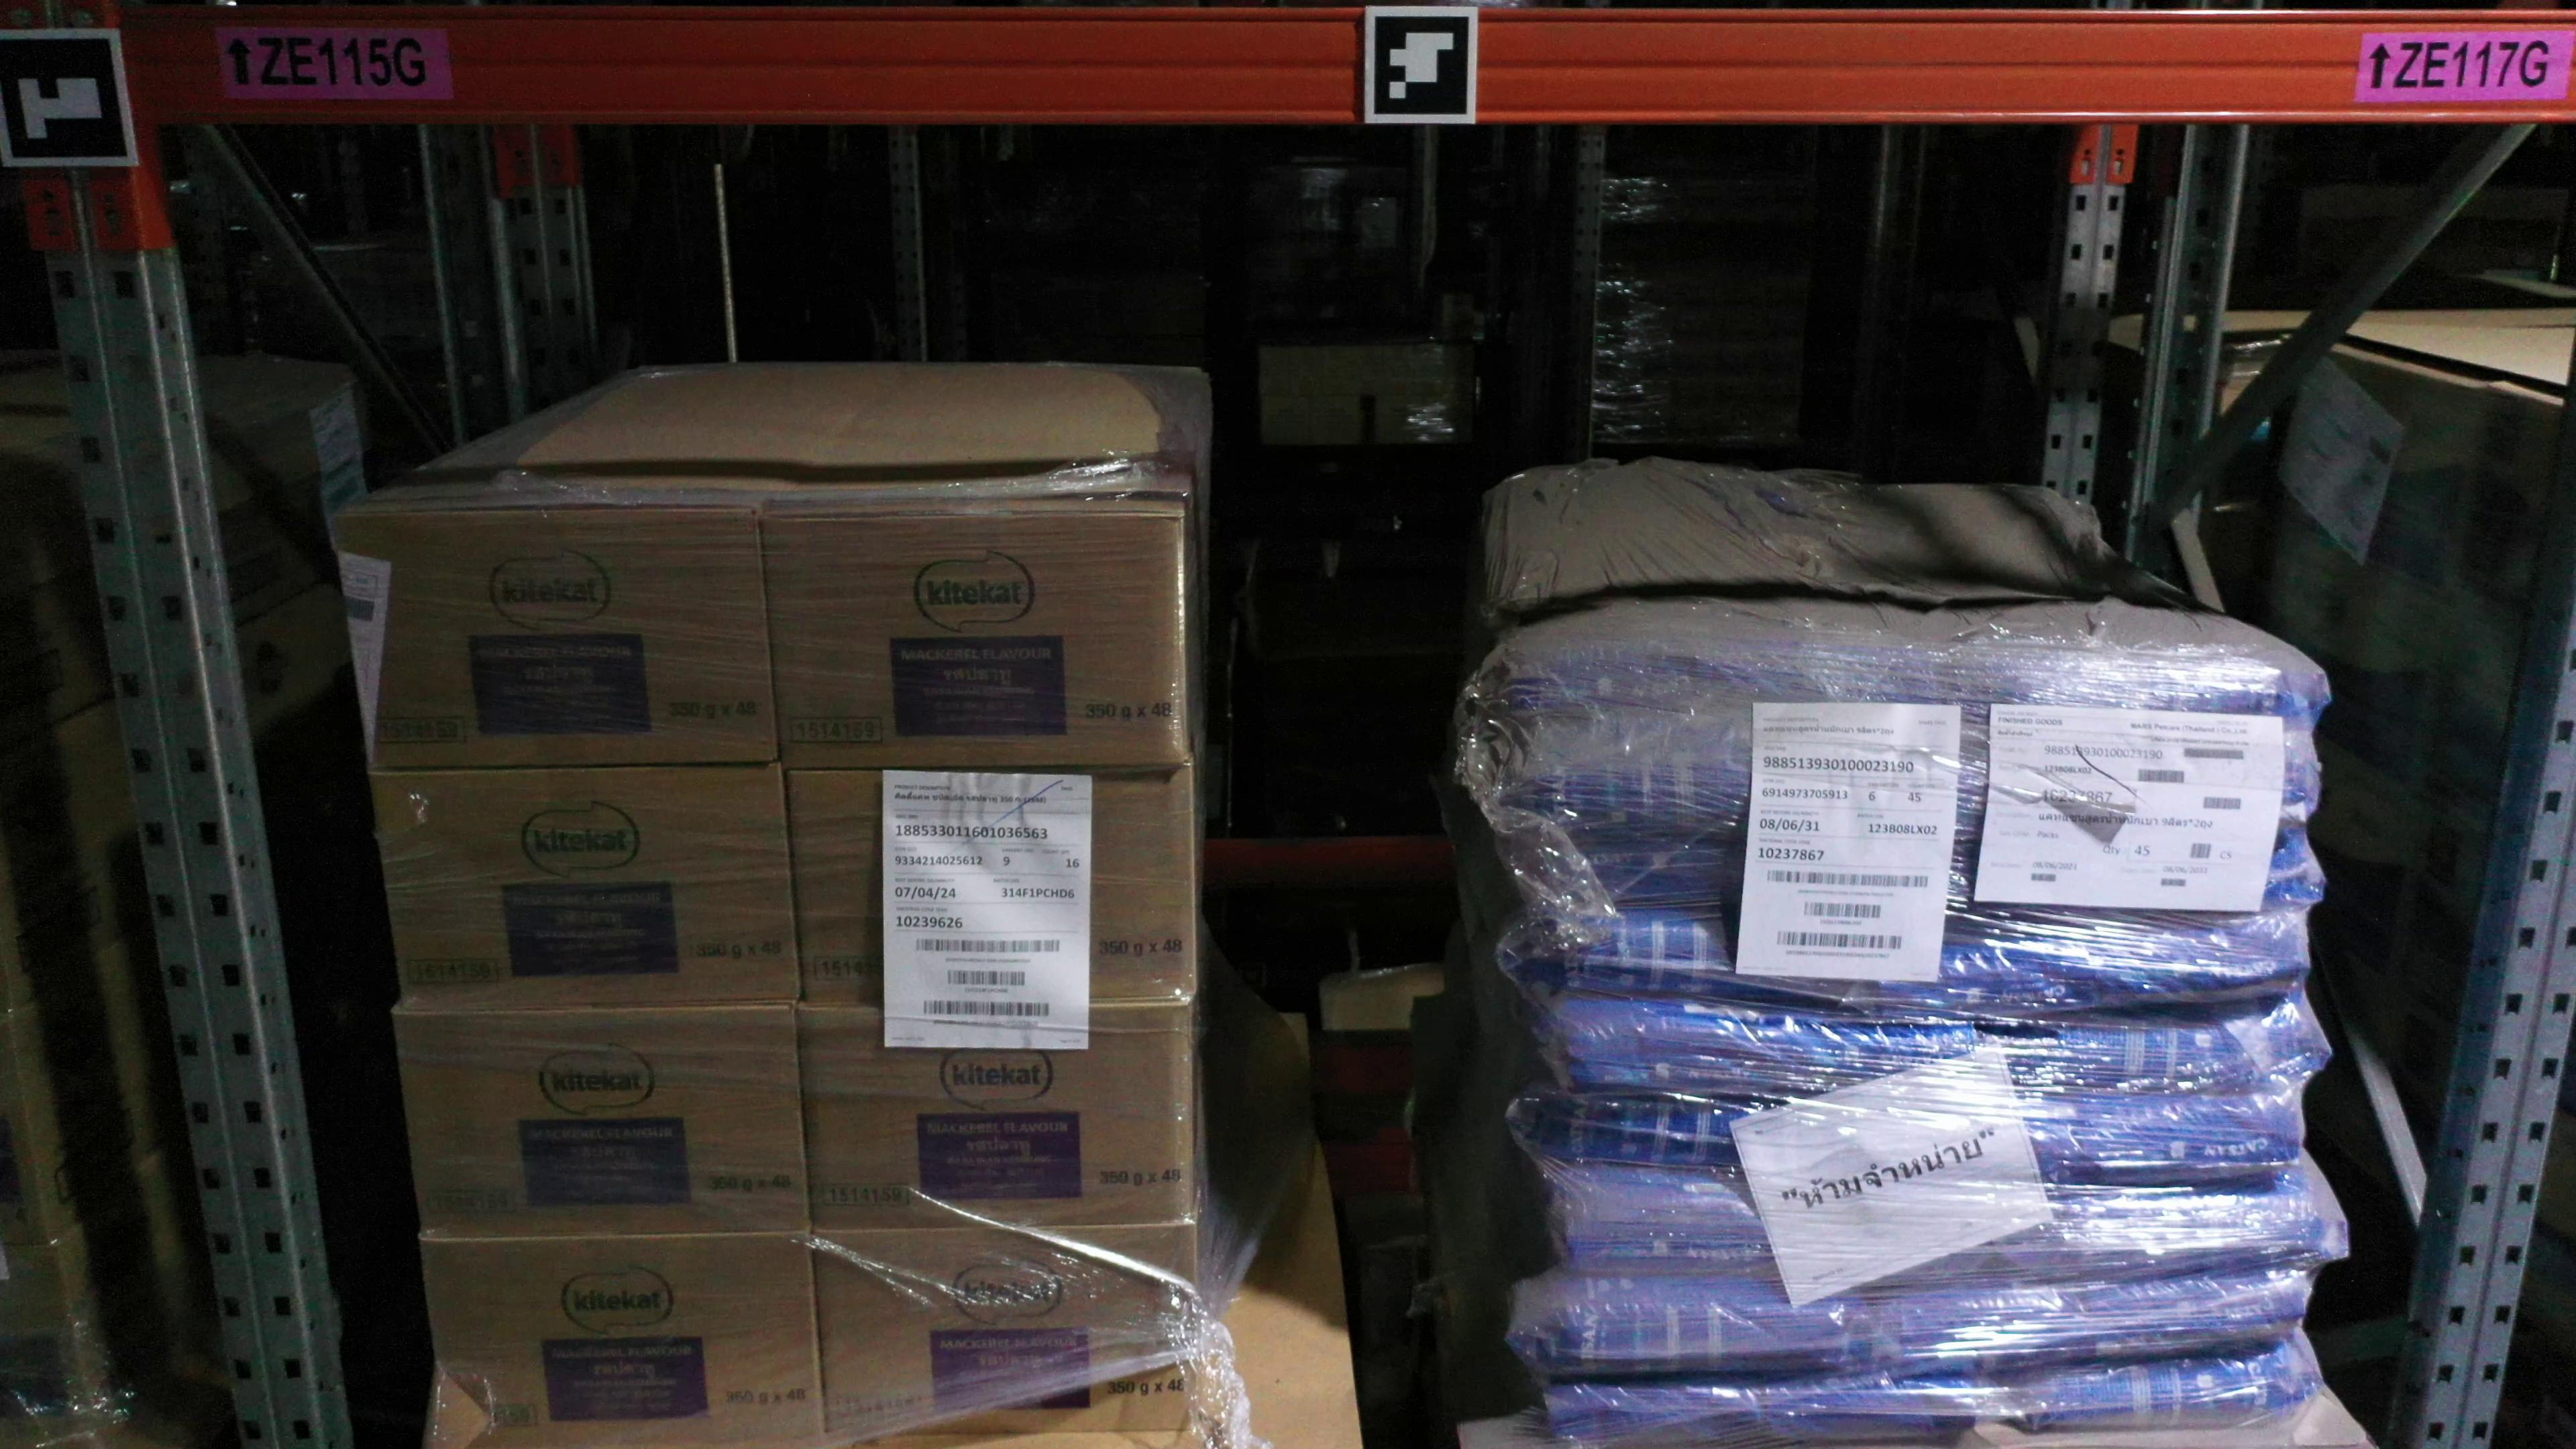-: (329, 502, 780, 771), (764, 508, 1185, 771), (370, 768, 800, 1010), (786, 761, 1192, 1007), (398, 1003, 805, 1238), (798, 1001, 1194, 1228), (421, 1231, 828, 1449), (807, 1230, 1203, 1440), (0, 1246, 92, 1421)
